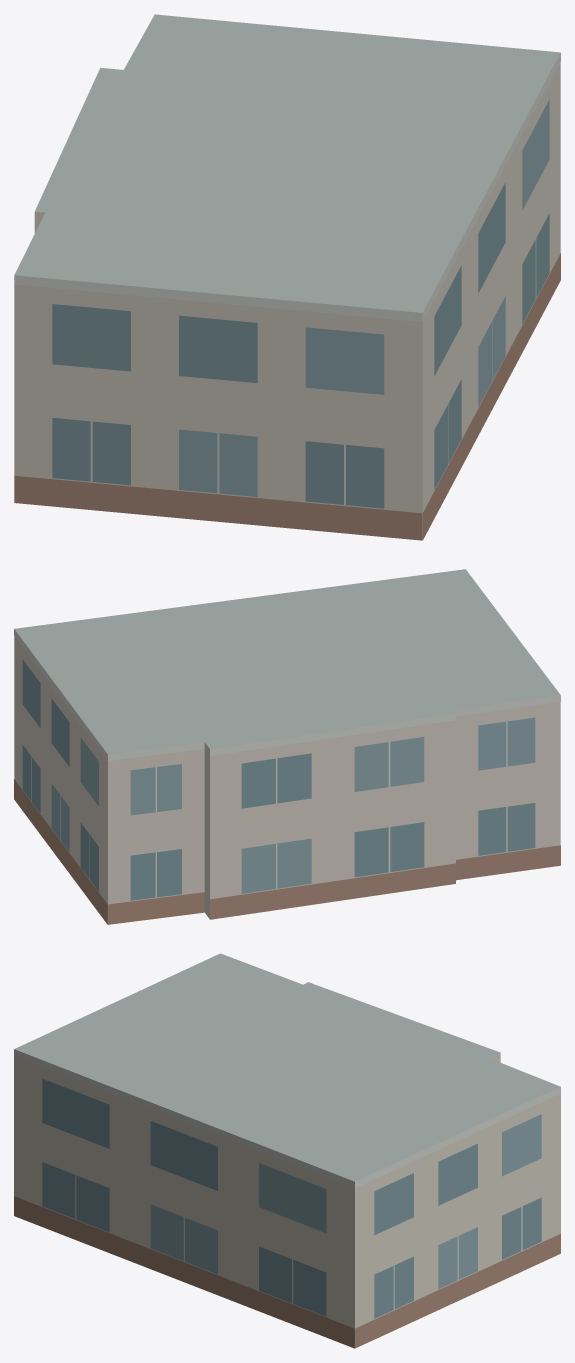
File: survey-upis-32855686.glb
3 views of the same model, one above another, from view 1: azimuth 30°, elevation 25°; view 2: azimuth 150°, elevation 25°; view 3: azimuth 270°, elevation 25° (orthographic). The views are drawn at different scales.
Visible parts, largest first — view 1: survey-upis-32855686.tmp; view 2: survey-upis-32855686.tmp; view 3: survey-upis-32855686.tmp.
Boxes of the visible parts, x1,y1,x2,y2 form: survey-upis-32855686.tmp: [14, 14, 560, 540]; survey-upis-32855686.tmp: [14, 569, 560, 924]; survey-upis-32855686.tmp: [14, 953, 560, 1348].
Size of the model in its own units: 17.91 by 6.1 by 18.12.
